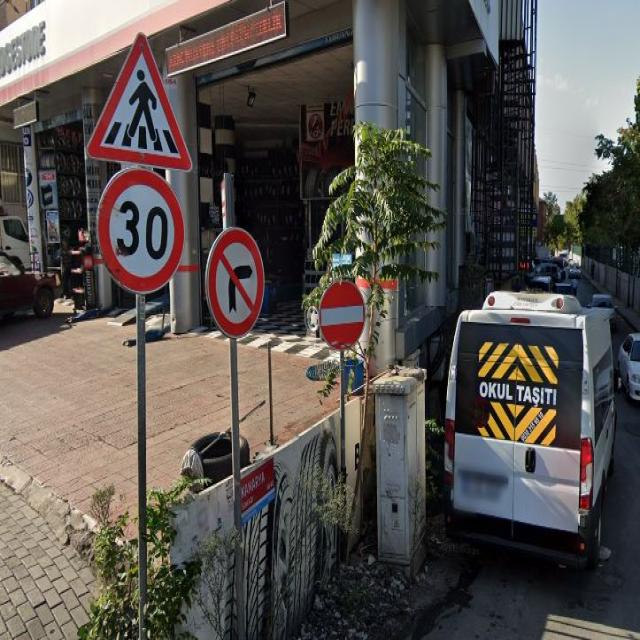30: (96, 169, 185, 293)
girisyok: (320, 282, 366, 350)
sagadonulmez: (206, 227, 265, 339)
